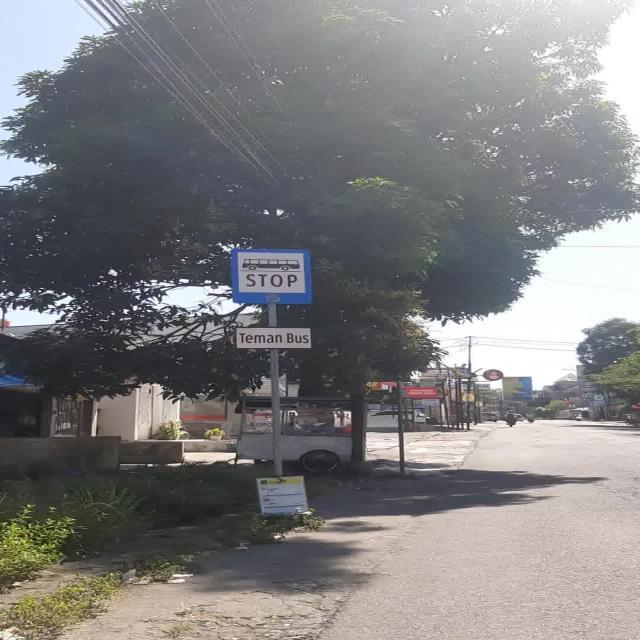Pemberhentian Bus: (230, 249, 312, 304)
